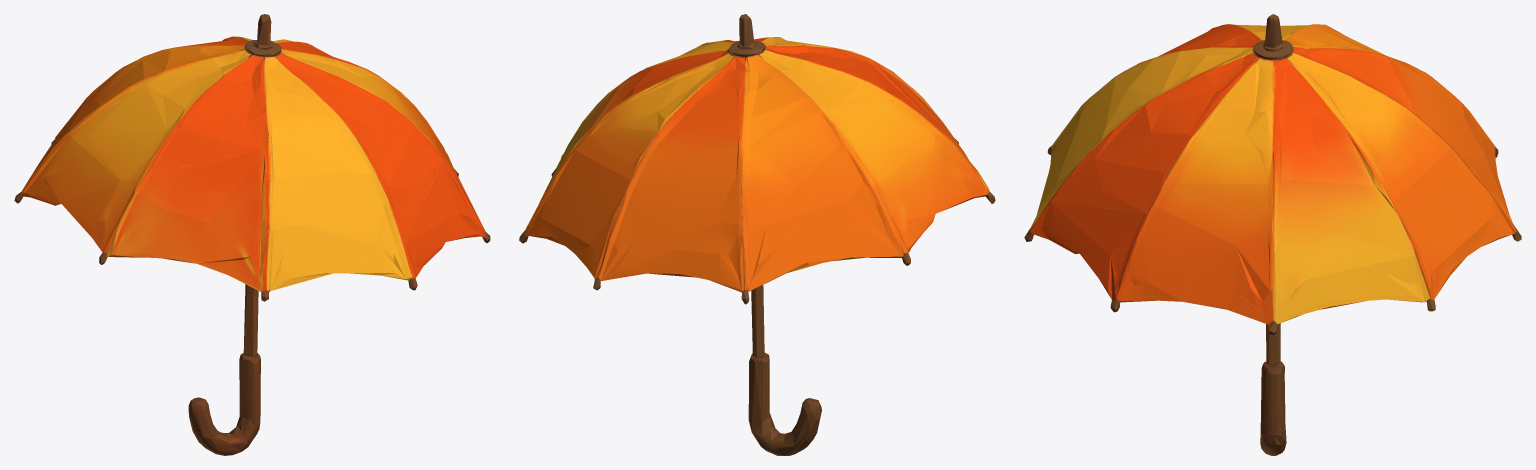
File: umbrella.glb
3 renders of one model, left to right at view 1: azimuth 30°, elevation 25°; view 2: azimuth 150°, elevation 25°; view 3: azimuth 270°, elevation 25°, orthographic. The views are drawn at different scales.
Parts seen in each view (by area): view 1: output_unwrapped; view 2: output_unwrapped; view 3: output_unwrapped.
Boxes of the visible parts, x1,y1,x2,y2 form: output_unwrapped: (14,14,490,455); output_unwrapped: (519,14,995,455); output_unwrapped: (1024,14,1521,455).
Size of the model in its own units: 1.85 by 1.9 by 1.88.
Materials: 1 (1 with a texture image).
